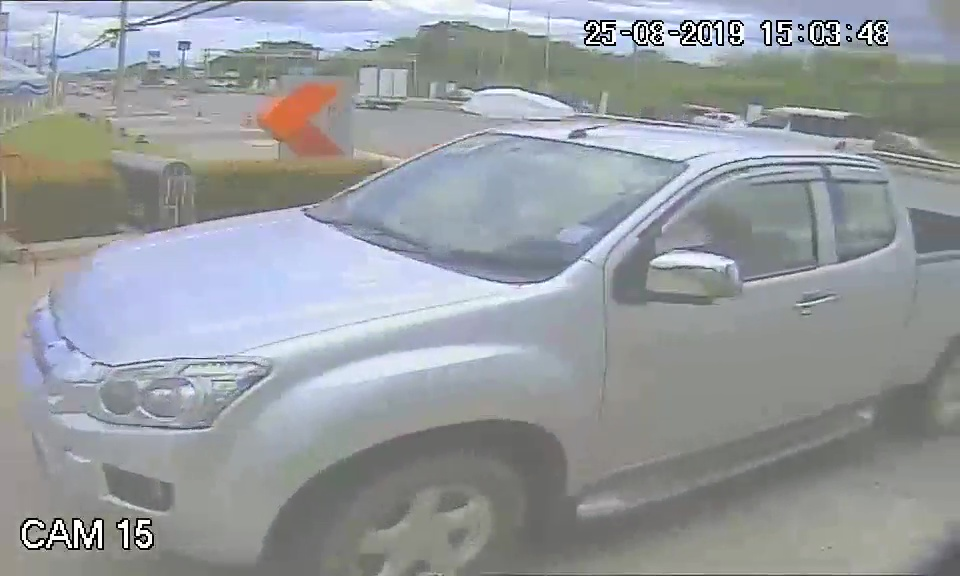pickup: (26, 115, 933, 514)
